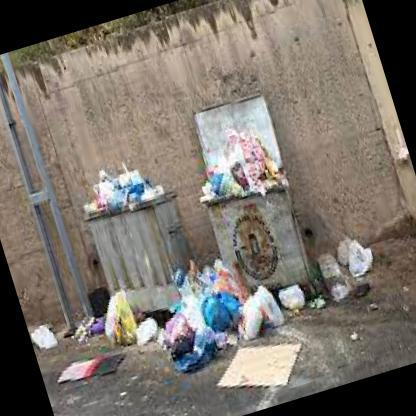Garbage: (166, 238, 248, 370), (226, 278, 314, 352), (190, 128, 275, 194), (77, 154, 158, 214), (156, 304, 208, 380), (194, 280, 244, 341), (335, 221, 385, 280), (93, 292, 138, 350), (124, 310, 173, 352), (26, 311, 64, 358), (254, 284, 288, 332), (70, 313, 104, 346), (280, 280, 310, 314), (99, 168, 134, 194), (234, 152, 264, 182)
